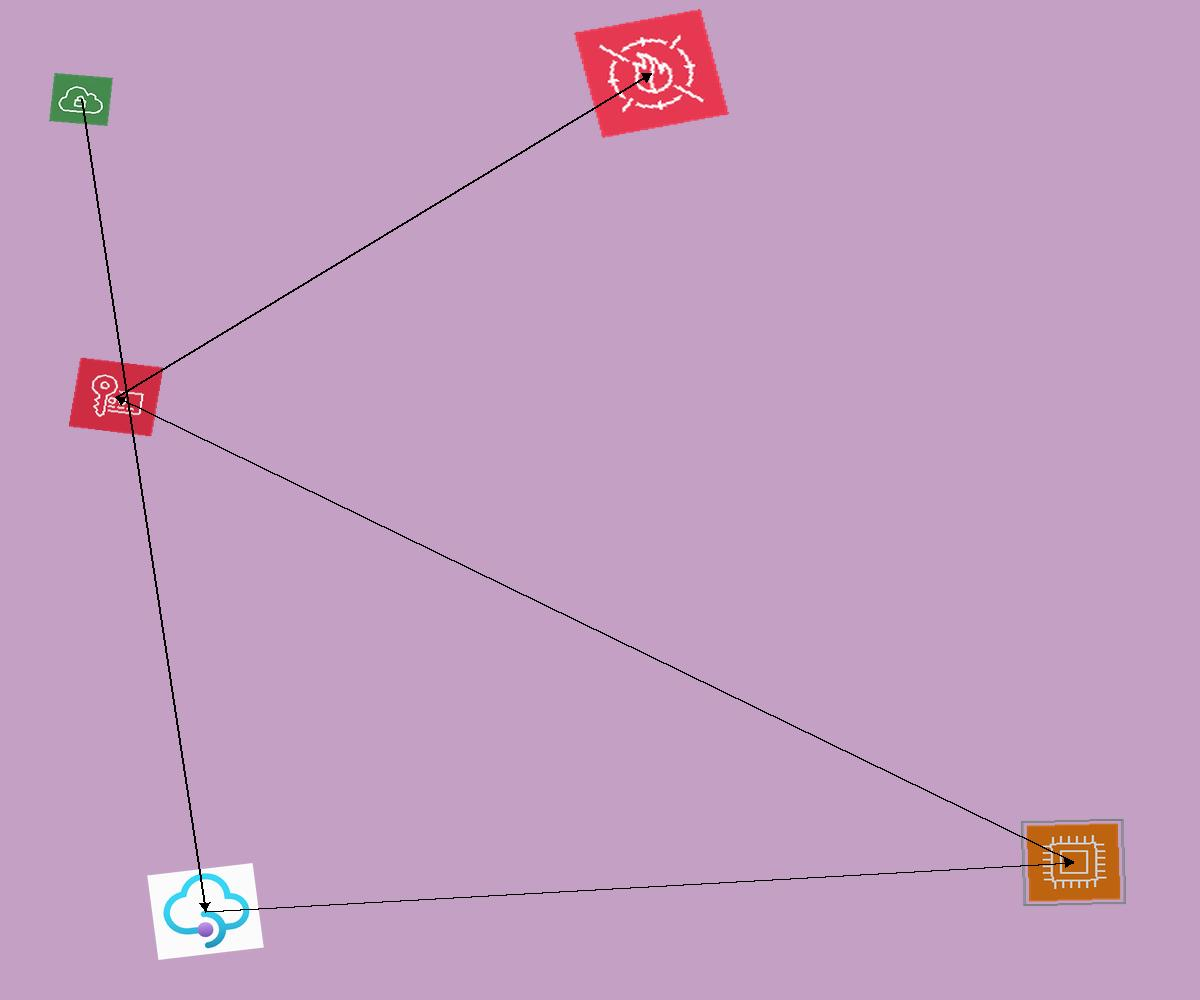AWS-Category_Compute: (1020, 818, 1127, 907)
AWS-Key-Management-Service: (68, 357, 164, 437)
AWS-Private_vpc: (49, 73, 113, 126)
AWS-WAF: (574, 9, 729, 138)
Azure_api_gateway: (147, 863, 264, 960)
